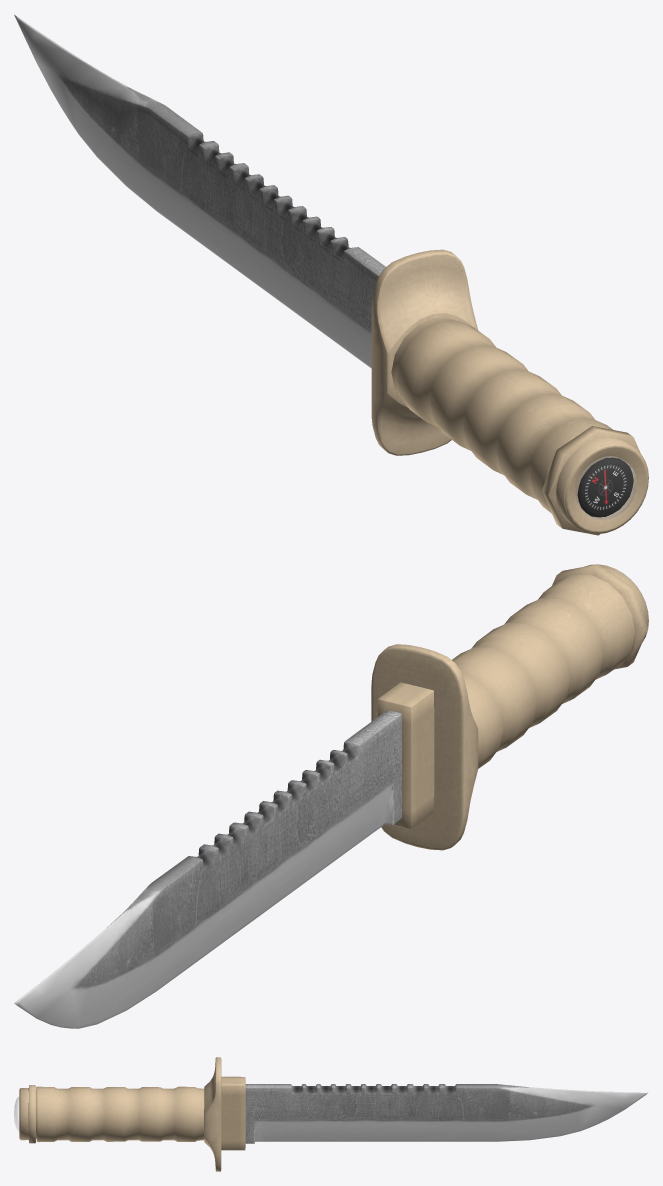
File: shifted_chuchillo.glb
3 views of the same model, one above another, from view 1: azimuth 30°, elevation 25°; view 2: azimuth 150°, elevation 25°; view 3: azimuth 270°, elevation 25° (orthographic). The views are drawn at different scales.
Parts seen in each view (by area): view 1: Hoja, Mango, Guardamano, Tapa, T-Brujula, Brujula, Tuerca; view 2: Hoja, Mango, Guardamano, Defensa, Tuerca; view 3: Hoja, Mango, Defensa, Guardamano, Tapa, Tuerca.
Part boxes in pixels (x1,y1,x2,y2): Hoja: [14, 14, 385, 368]; Mango: [391, 318, 613, 513]; Guardamano: [371, 249, 478, 455]; Tapa: [556, 437, 648, 534]; T-Brujula: [575, 456, 636, 520]; Brujula: [577, 457, 633, 517]; Tuerca: [542, 426, 640, 535]; Hoja: [14, 710, 401, 1028]; Mango: [452, 574, 636, 768]; Guardamano: [371, 644, 478, 850]; Defensa: [377, 682, 434, 828]; Tuerca: [552, 564, 648, 669]; Hoja: [245, 1084, 648, 1143]; Mango: [36, 1086, 204, 1142]; Defensa: [221, 1076, 245, 1150]; Guardamano: [204, 1057, 221, 1171]; Tapa: [19, 1088, 28, 1140]; Tuerca: [28, 1085, 36, 1143].
Bounding box in the file's own units: 0.5256 × 0.9848 × 5.43.
4 materials, 3 textured.
